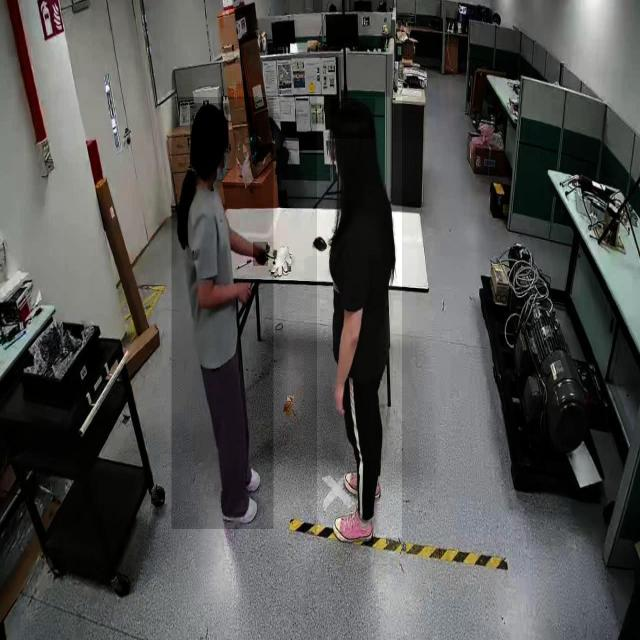face_mask: (208, 134, 236, 188)
hand_noglove: (333, 379, 346, 416), (237, 276, 253, 306), (253, 242, 269, 266)
head_nohelmet: (330, 98, 376, 140), (190, 103, 229, 141)
person: (172, 97, 274, 530), (317, 97, 403, 539)
shoes: (332, 512, 373, 551), (224, 460, 266, 497), (342, 468, 382, 506), (218, 491, 259, 526)
